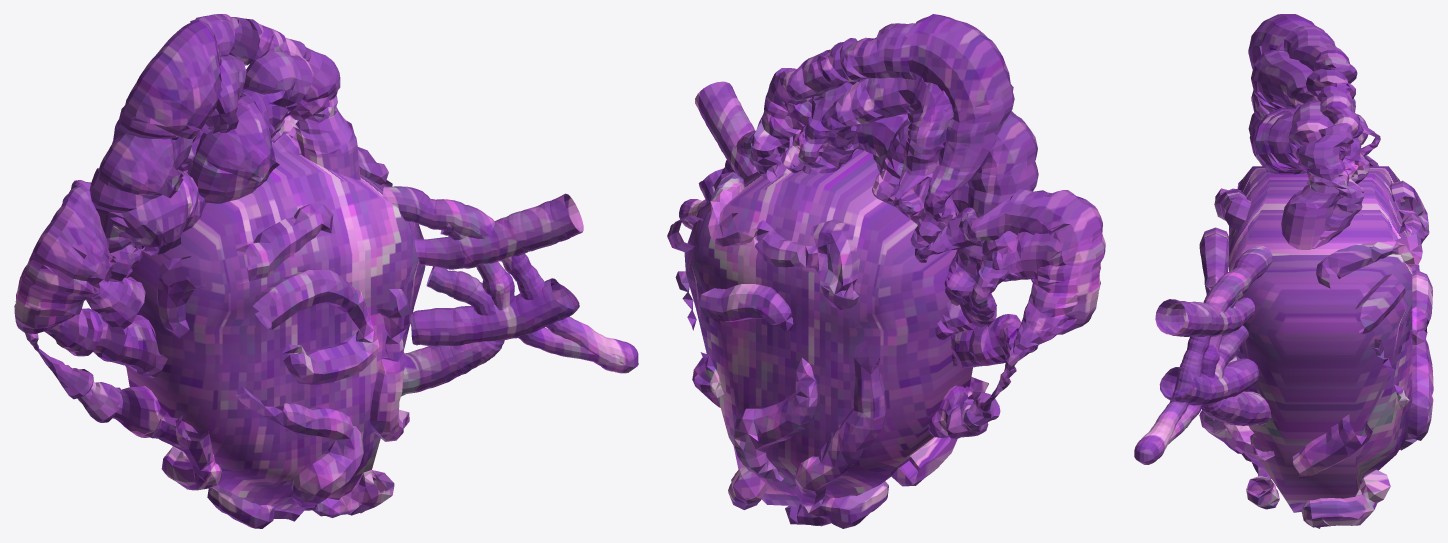
Rendered from heart.fbx.
3 renders of one model, left to right at view 1: azimuth 30°, elevation 25°; view 2: azimuth 150°, elevation 25°; view 3: azimuth 270°, elevation 25°, orthographic. The views are drawn at different scales.
Parts seen in each view (by area): view 1: Cube; view 2: Cube; view 3: Cube.
Part boxes in pixels (left/top/right/bottom): Cube: left=14, top=14, right=638, bottom=528; Cube: left=667, top=14, right=1105, bottom=528; Cube: left=1134, top=14, right=1433, bottom=528.
Size of the model in its own units: 424 by 416 by 249.
